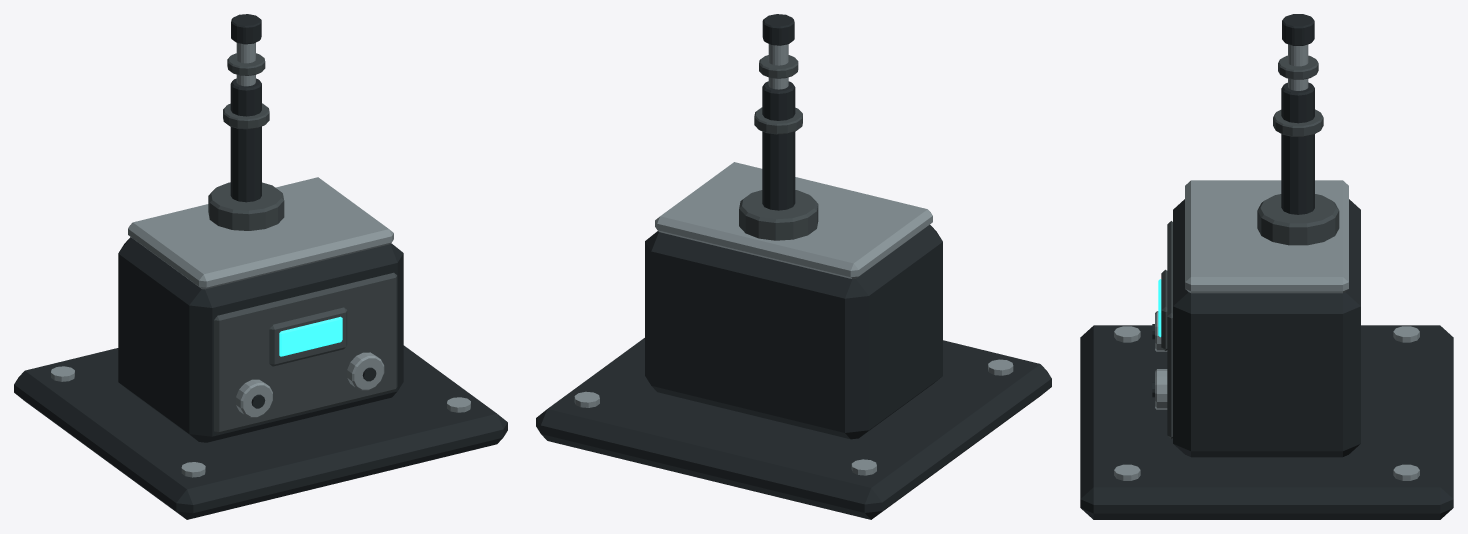
Rendered from FTF_Tool_VehicleSignalAugment_Black_1_9m.glb.
The picture shows the model from 3 angles, left to right: view 1: azimuth 30°, elevation 25°; view 2: azimuth 150°, elevation 25°; view 3: azimuth 270°, elevation 25°; orthographic projection. The views are drawn at different scales.
Visible parts, largest first — view 1: VehicleSignalAugment_Body, VehicleSignalAugment_Antenna, SignalScreen_Glow; view 2: VehicleSignalAugment_Body, VehicleSignalAugment_Antenna; view 3: VehicleSignalAugment_Body, VehicleSignalAugment_Antenna.
Part boxes in pixels (x1=…): VehicleSignalAugment_Body: x1=14, y1=177, x2=507, y2=519; VehicleSignalAugment_Antenna: x1=208, y1=14, x2=284, y2=230; SignalScreen_Glow: x1=279, y1=316, x2=342, y2=356; VehicleSignalAugment_Body: x1=536, y1=162, x2=1051, y2=519; VehicleSignalAugment_Antenna: x1=739, y1=14, x2=818, y2=240; VehicleSignalAugment_Body: x1=1080, y1=180, x2=1453, y2=519; VehicleSignalAugment_Antenna: x1=1257, y1=14, x2=1339, y2=245.
Bounding box in the file's own units: 1.7 × 1.92 × 1.55.
